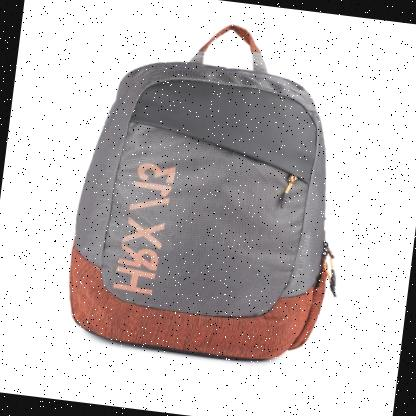bag: (52, 3, 372, 375)
